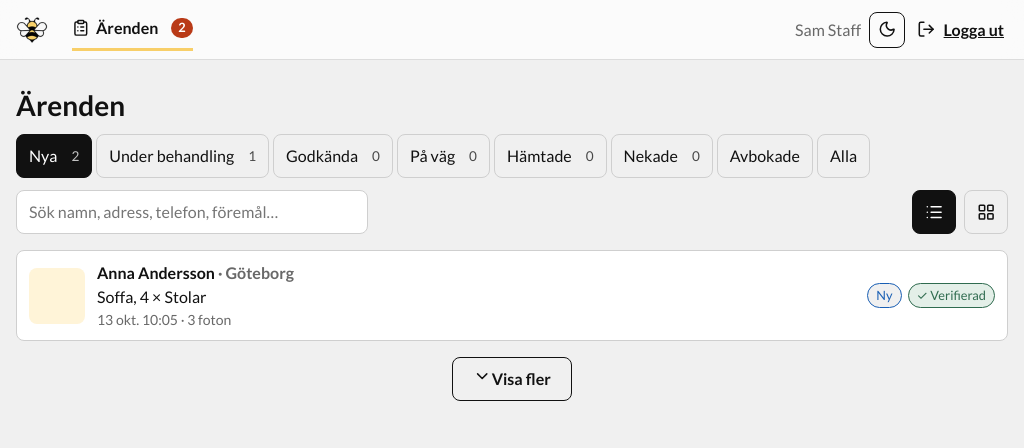
Scenario: request list › loads more pages
This screenshot has width=1024, height=448.
Click the button "Visa fler".
click(512, 379)  # box [452,357,572,401]
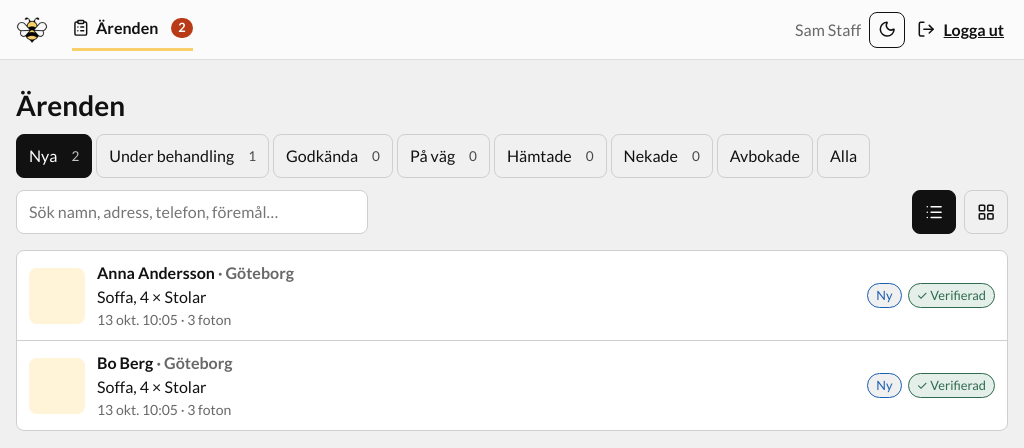
Result: the text "Bo Berg" is shown at [97,353,153,372]
Result: the button "Visa fler" is gone
